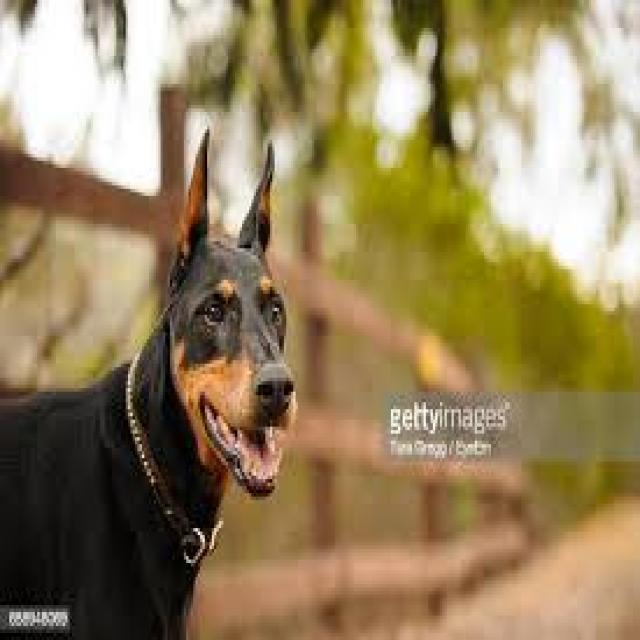Dog: (0, 123, 297, 598)
